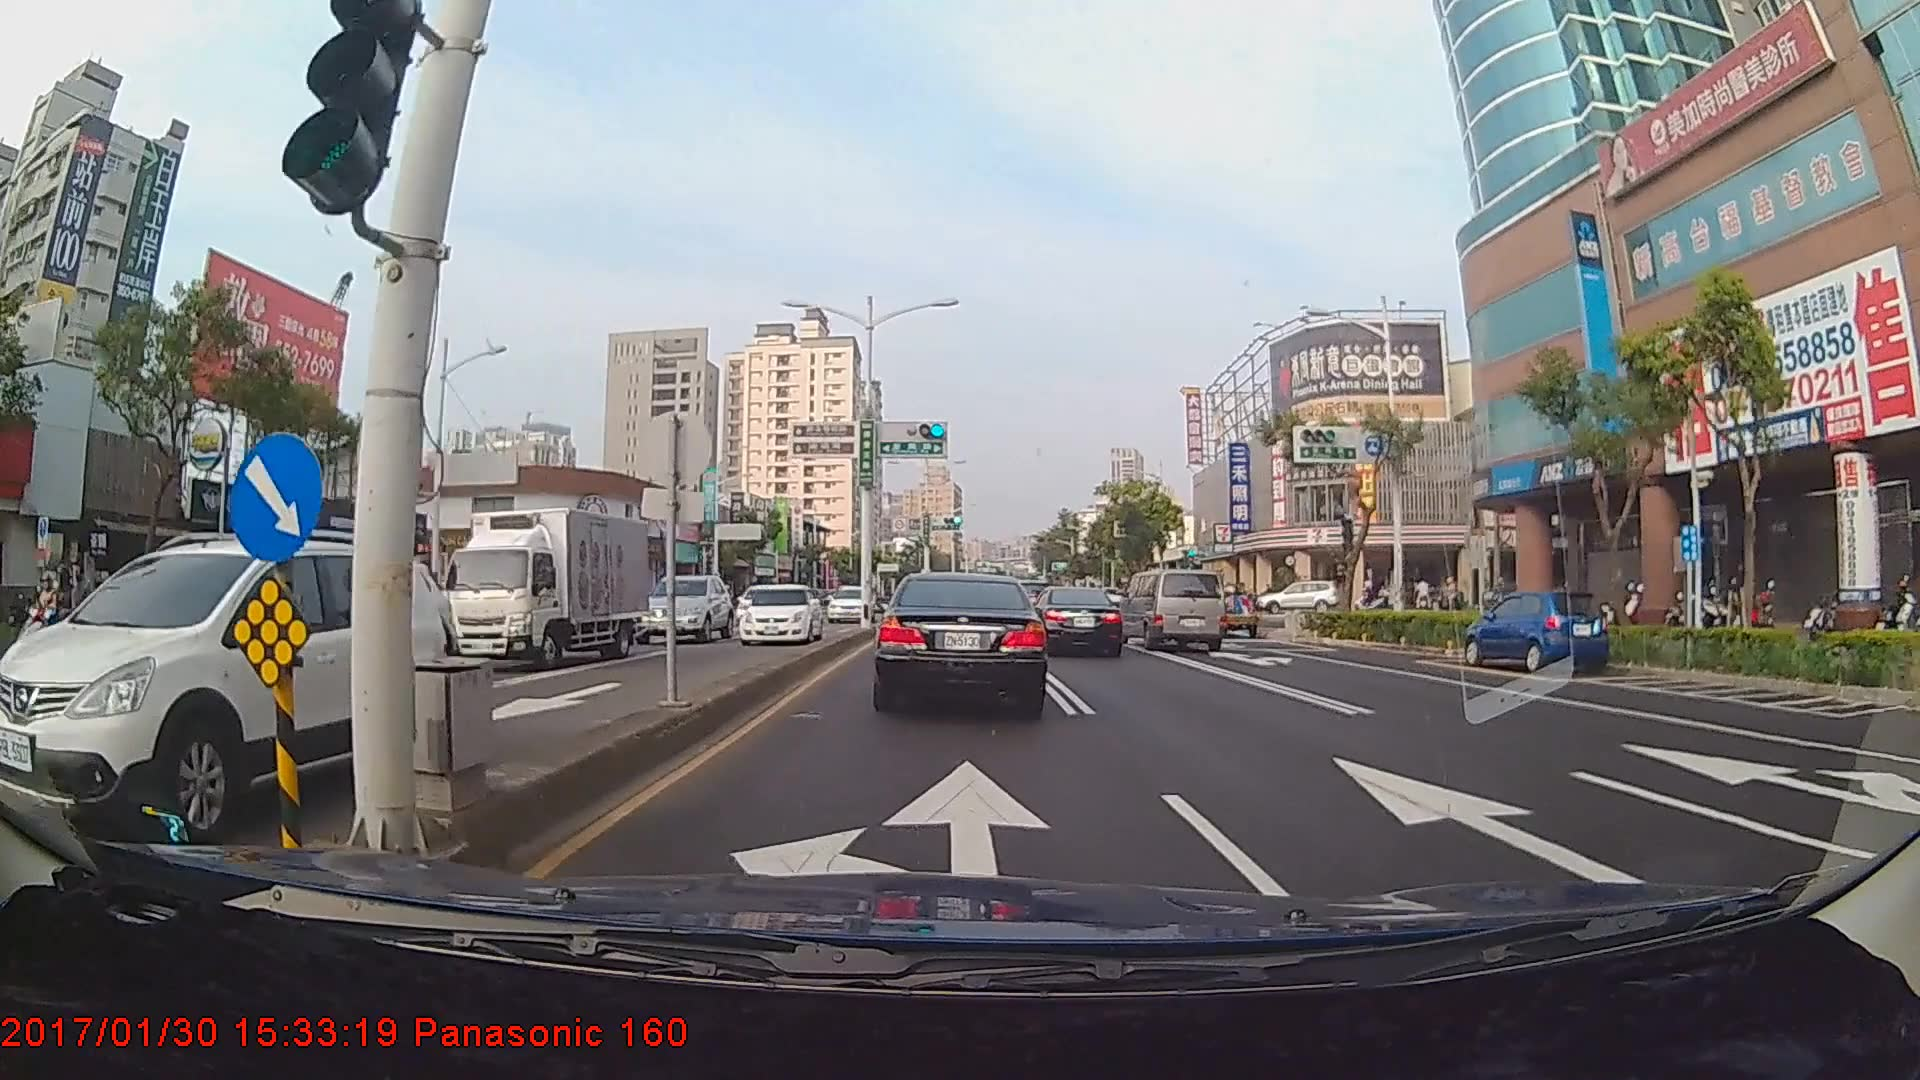vehicle: (26, 527, 454, 848), (439, 500, 649, 669), (876, 568, 1048, 713), (1462, 588, 1610, 674), (1118, 568, 1228, 651), (626, 568, 731, 641), (728, 576, 819, 645), (1036, 585, 1124, 655), (1261, 582, 1338, 615), (823, 579, 868, 621)
